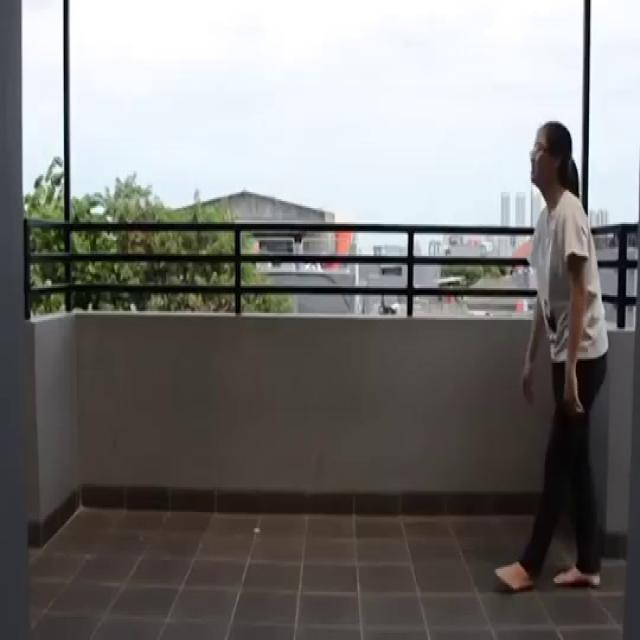normal: (489, 117, 620, 601)
